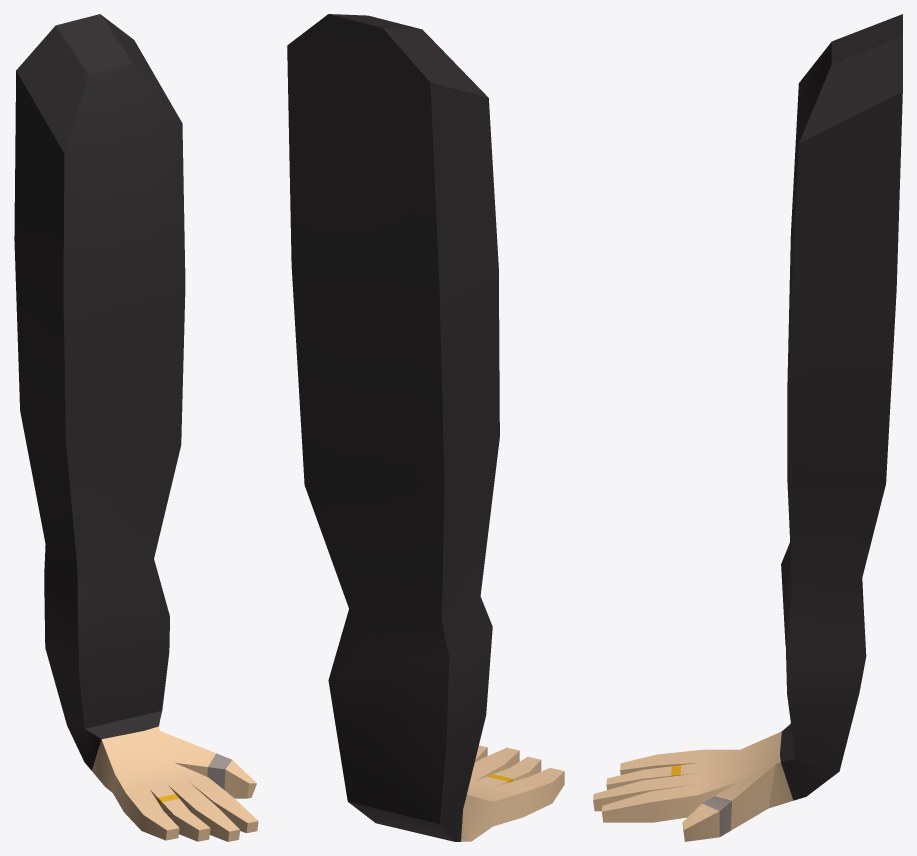
The model's file is arm90blackwithrings.fbx.
3 views of the same model, side by side, from view 1: azimuth 30°, elevation 25°; view 2: azimuth 150°, elevation 25°; view 3: azimuth 270°, elevation 25° (orthographic). The views are drawn at different scales.
Parts seen in each view (by area): view 1: Arm90Longer; view 2: Arm90Longer; view 3: Arm90Longer.
Boxes of the visible parts, x1,y1,x2,y2 form: Arm90Longer: (14, 14, 258, 841); Arm90Longer: (287, 14, 564, 841); Arm90Longer: (593, 14, 902, 841).
Size of the model in its own units: 342 by 1645 by 592.
